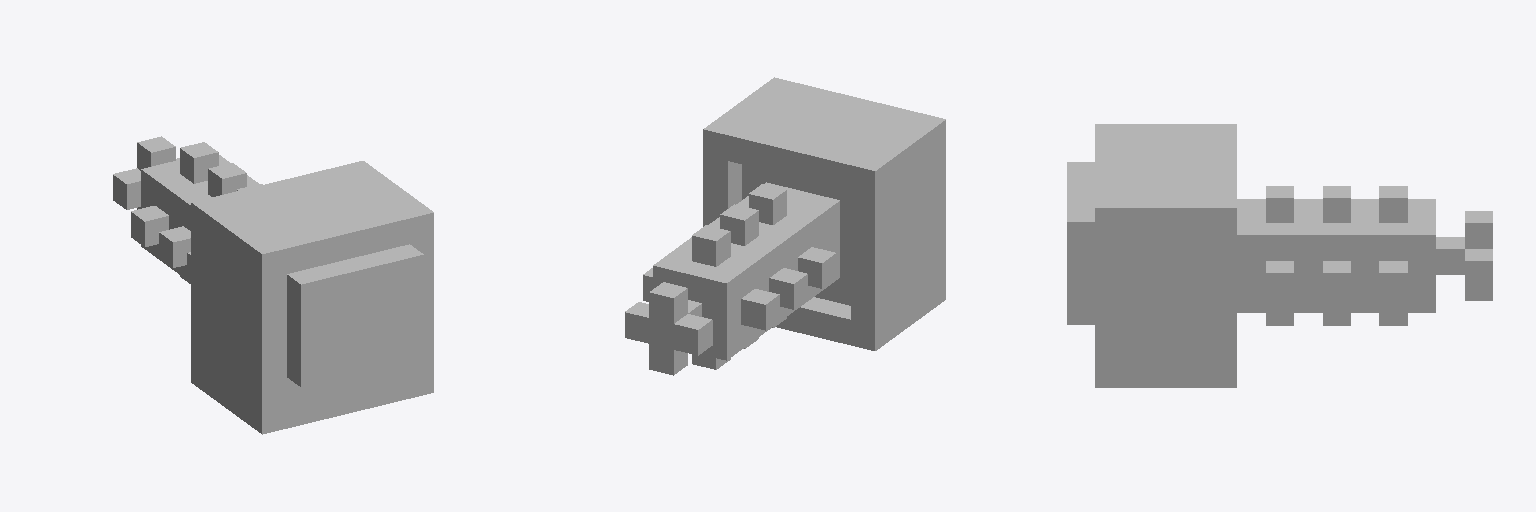
Rendered from Cactus2.obj.
3 views of the same model, side by side, from view 1: azimuth 30°, elevation 25°; view 2: azimuth 150°, elevation 25°; view 3: azimuth 270°, elevation 25° (orthographic).
Visible parts, largest first — view 1: Untitled.028; view 2: Untitled.028; view 3: Untitled.028.
Part boxes in pixels (left/top/right/bottom): Untitled.028: left=113, top=136, right=433, bottom=434; Untitled.028: left=625, top=77, right=945, bottom=375; Untitled.028: left=1067, top=124, right=1492, bottom=387.
Bounding box in the file's own units: 0.7 × 0.7 × 1.5.